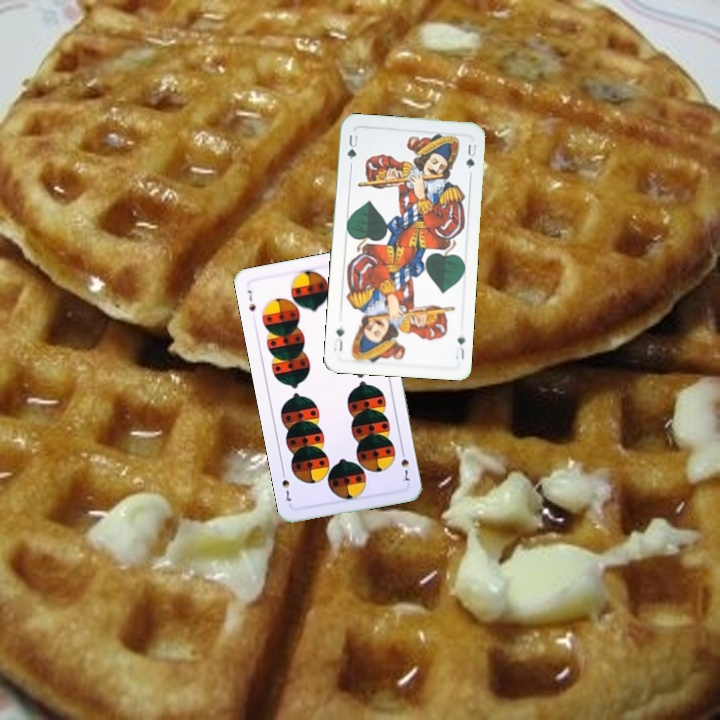GU: (343, 131, 360, 162), (451, 332, 467, 362)
S7: (397, 445, 412, 484), (243, 286, 258, 314)
